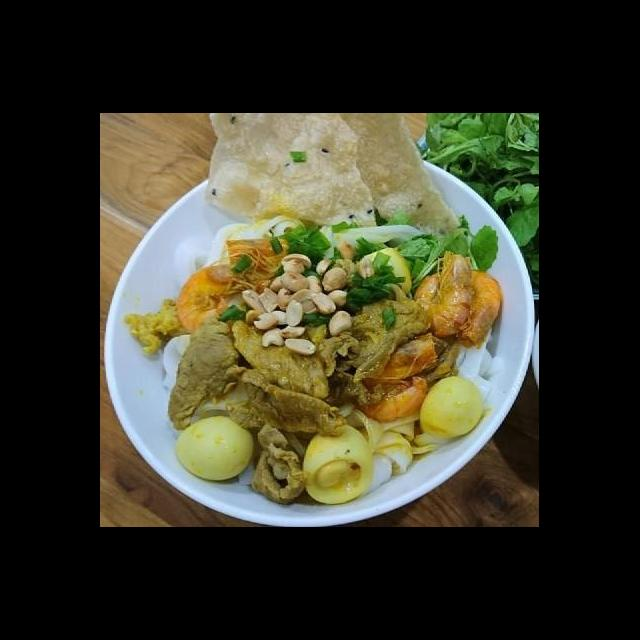banh da: (204, 114, 382, 235), (329, 114, 466, 244)
mi: (349, 408, 454, 495), (200, 210, 308, 269), (440, 322, 504, 402), (316, 219, 430, 258)
thit heo: (320, 294, 434, 409), (227, 310, 361, 403), (166, 307, 246, 432), (222, 366, 351, 439), (248, 420, 312, 508)
tom: (348, 329, 441, 424), (172, 260, 262, 336), (408, 249, 480, 341), (430, 267, 504, 351), (222, 236, 312, 297)
trung: (300, 423, 376, 508), (174, 414, 258, 484), (416, 374, 486, 441), (352, 245, 416, 298)
